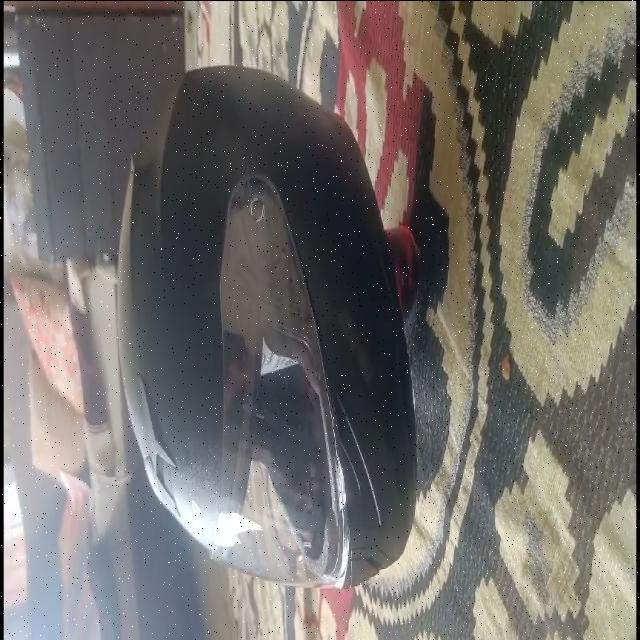Helmet: (116, 63, 414, 588)
